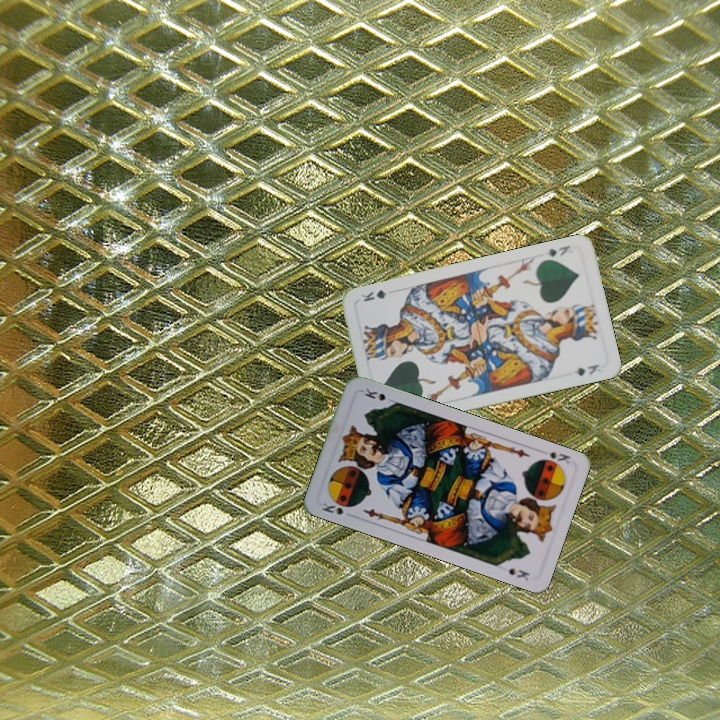GK: (544, 241, 572, 259)
SK: (536, 447, 573, 466), (318, 498, 346, 518)
